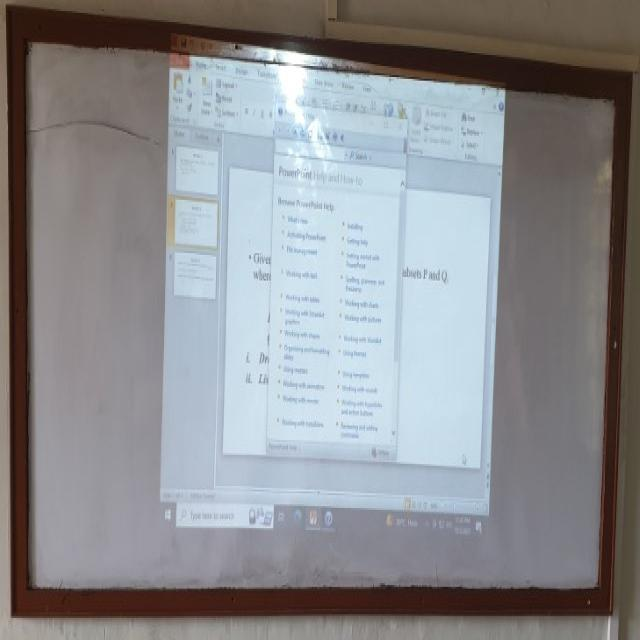Slide: (155, 32, 507, 545)
White-board: (17, 23, 625, 604)
